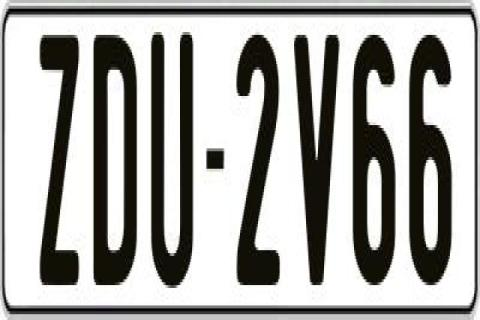0: (236, 29, 284, 279), (354, 29, 398, 285), (406, 29, 448, 288)
D: (92, 32, 142, 285)
U: (148, 32, 196, 291)
V: (293, 29, 345, 285)
Z: (38, 29, 80, 282)
